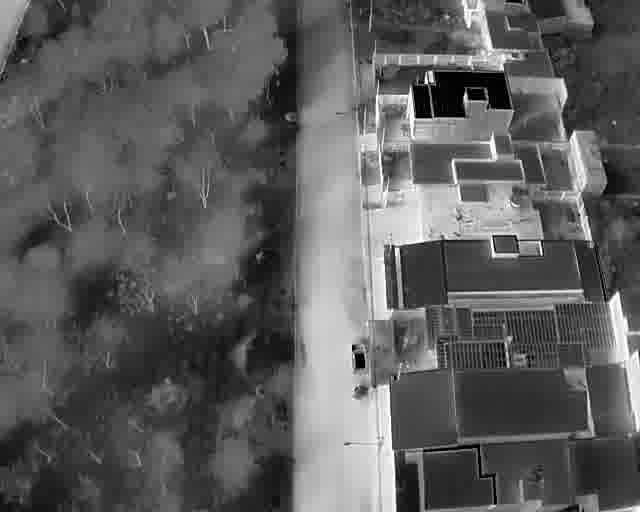car: (349, 341, 368, 375)
